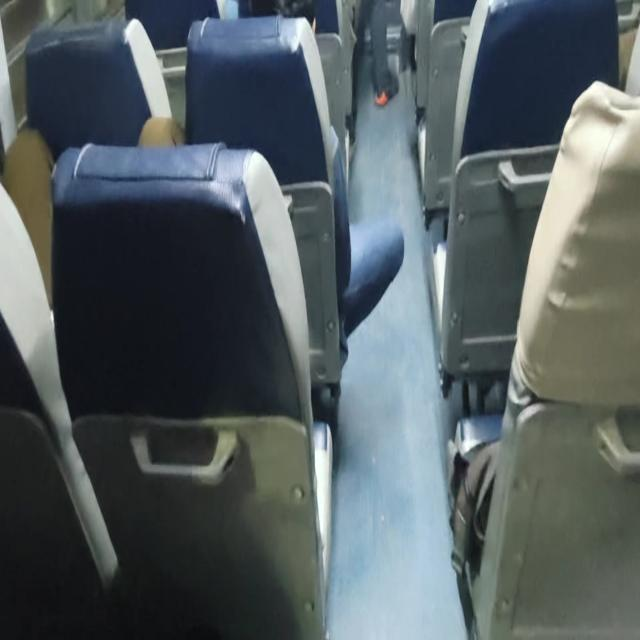person: (1, 1, 638, 637), (447, 76, 639, 636), (367, 0, 400, 106)
